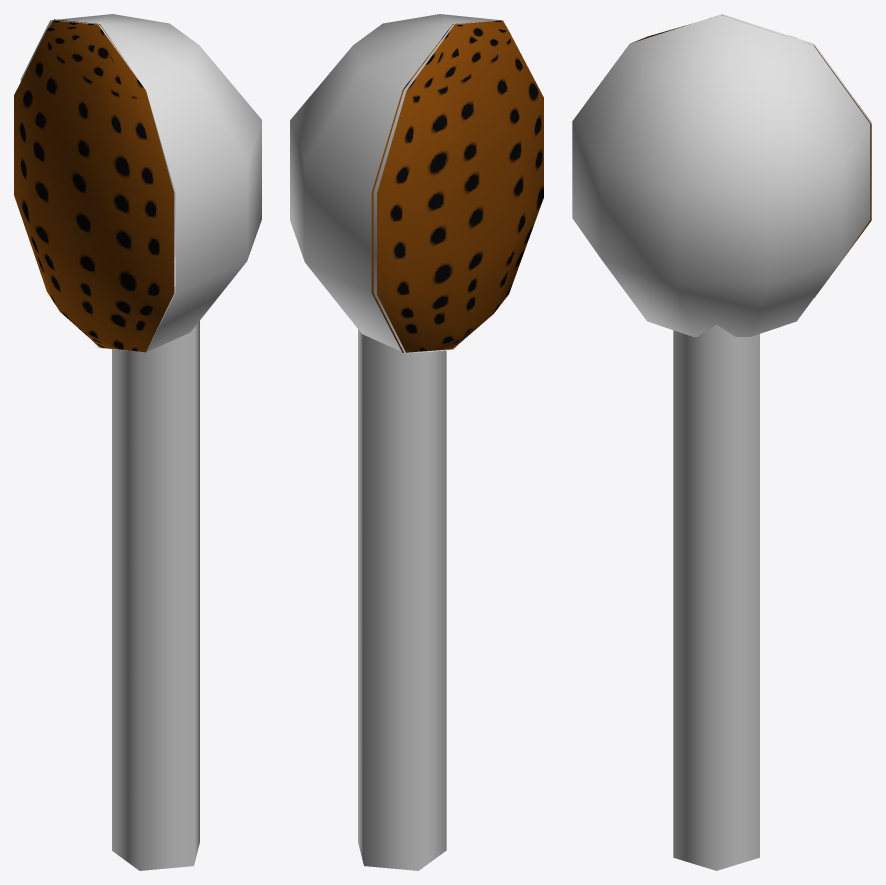
Rendered from speeker.FBX.
The picture shows the model from 3 angles, left to right: view 1: azimuth 30°, elevation 25°; view 2: azimuth 150°, elevation 25°; view 3: azimuth 270°, elevation 25°; orthographic projection. The views are drawn at different scales.
Parts seen in each view (by area): view 1: Cylinder001, Sphere002, Sphere001; view 2: Cylinder001, Sphere002, Sphere001; view 3: Sphere001, Cylinder001.
Part boxes in pixels (x1,y1,x2,y2): Cylinder001: [112, 257, 199, 870]; Sphere002: [14, 19, 174, 352]; Sphere001: [20, 14, 261, 351]; Cylinder001: [358, 329, 446, 870]; Sphere002: [371, 20, 543, 352]; Sphere001: [290, 14, 500, 353]; Sphere001: [572, 14, 871, 336]; Cylinder001: [673, 324, 759, 870].
Bounding box in the file's own units: 25.66 × 38.21 × 114.
